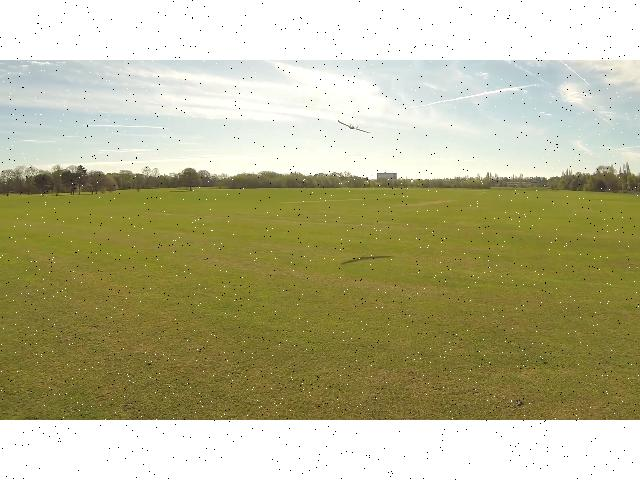Anti-Drone: (331, 112, 381, 145)
